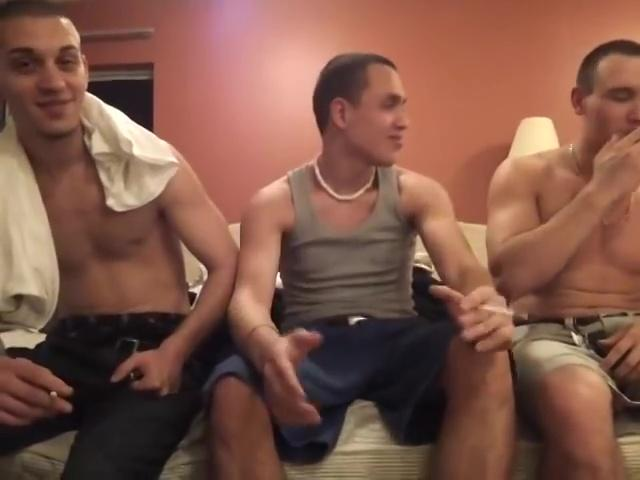cigarette: (471, 301, 533, 321), (51, 387, 57, 401)
